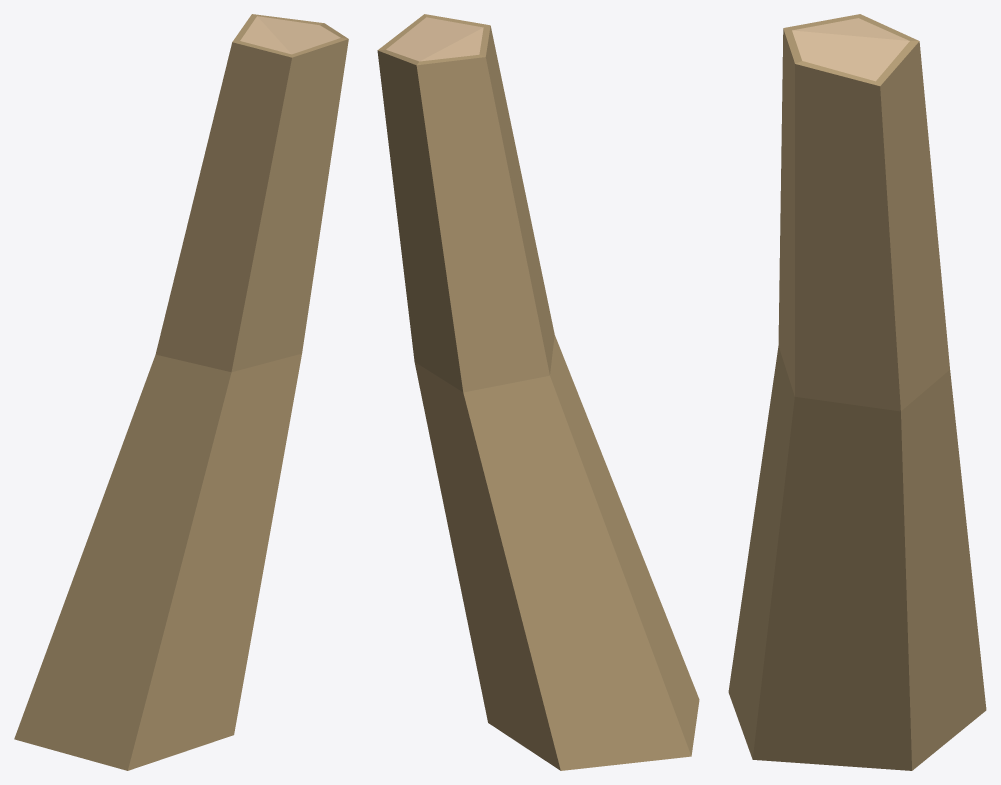
Rendered from Random_Stump_01.fbx.
3 renders of one model, left to right at view 1: azimuth 30°, elevation 25°; view 2: azimuth 150°, elevation 25°; view 3: azimuth 270°, elevation 25°, orthographic. The views are drawn at different scales.
Parts seen in each view (by area): view 1: Random_Stump_01; view 2: Random_Stump_01; view 3: Random_Stump_01.
Part boxes in pixels (x1,y1,x2,y2): Random_Stump_01: (14,14,348,770); Random_Stump_01: (377,14,699,770); Random_Stump_01: (728,14,986,770).
Size of the model in its own units: 81.24 by 161 by 48.76.
